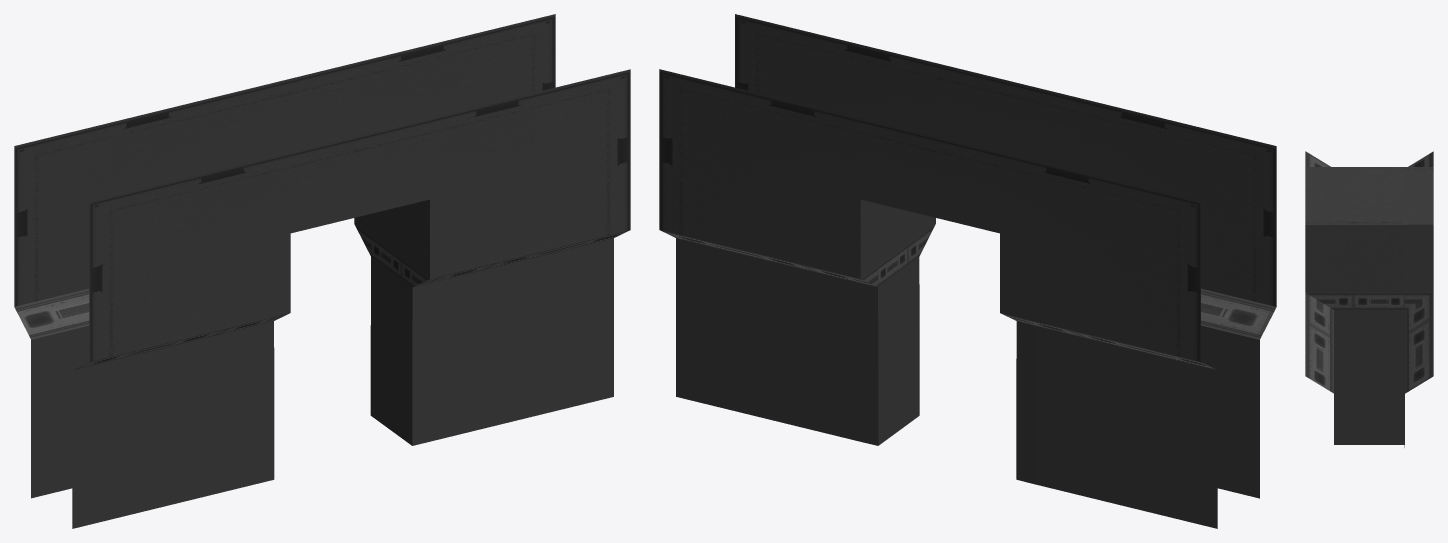
The model's file is Wall2°RoomDoor.fbx.
The picture shows the model from 3 angles, left to right: view 1: azimuth 30°, elevation 25°; view 2: azimuth 150°, elevation 25°; view 3: azimuth 270°, elevation 25°; orthographic projection. The views are drawn at different scales.
Visible parts, largest first — view 1: Plane; view 2: Plane; view 3: Plane.
Boxes of the visible parts, x1,y1,x2,y2 form: Plane: [14, 14, 630, 528]; Plane: [659, 14, 1276, 528]; Plane: [1305, 151, 1433, 447].
Bounding box in the file's own units: 801 × 480 × 193.
